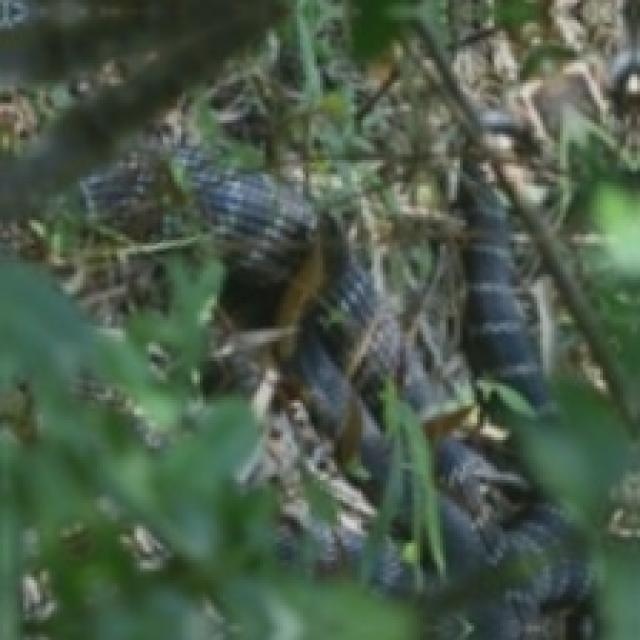king cobra: (0, 63, 623, 637), (497, 331, 600, 471)
